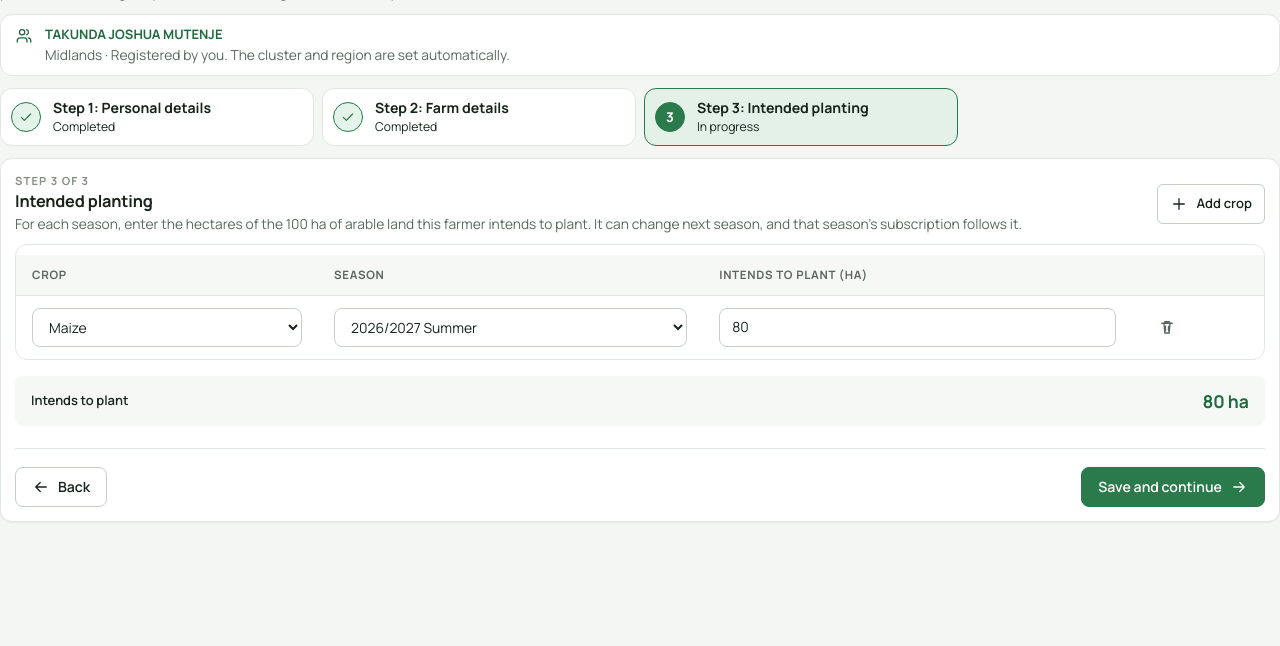
Test: RegisterFarmerPage submission › completes an administrator registration without any KYC upload
What coordinates should you click on to do the following:
click the button "Save and continue"
I would click on:
 (1173, 487)
Its box is [1081,467,1265,507].
(page scrolled)
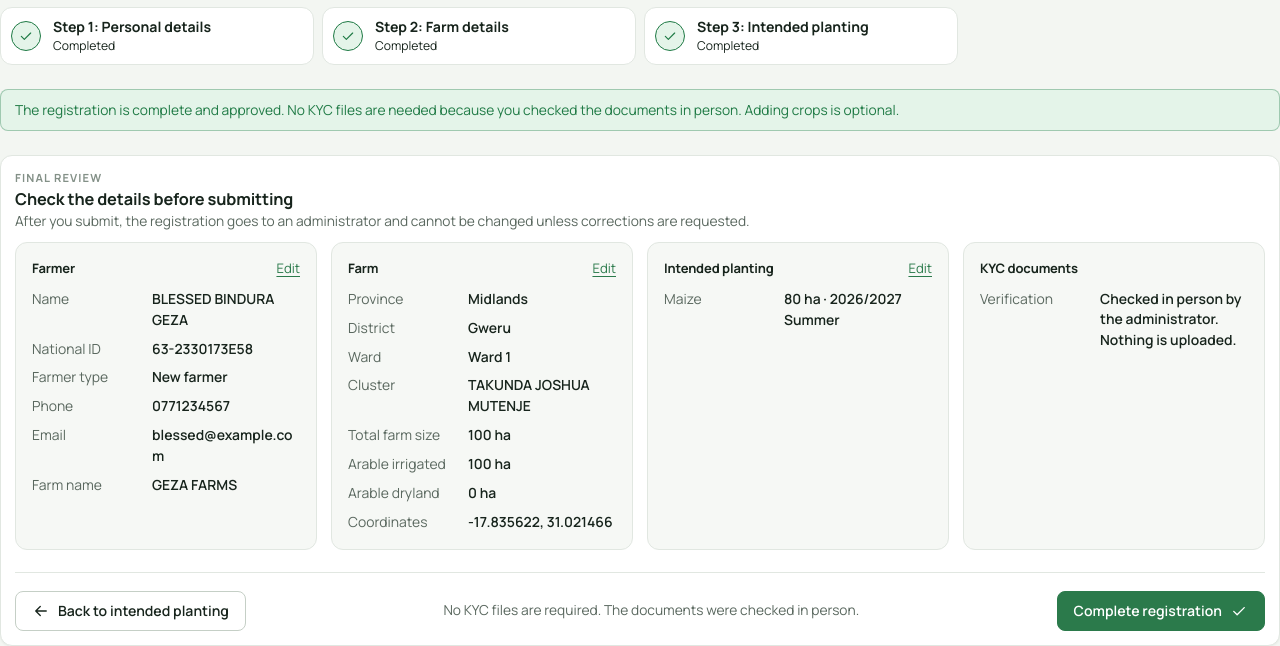
Expected: the button "Complete registration" is enabled, [1057,591,1265,631]
Result: the text "No KYC files are required" is shown at [443,600,859,619]
